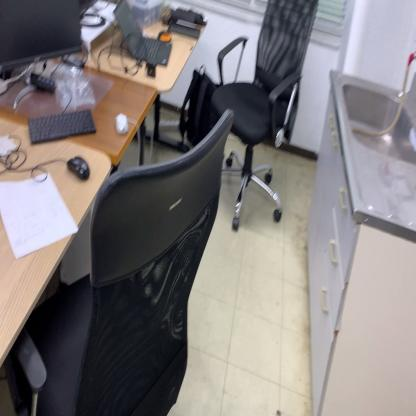chair: (8, 106, 236, 416), (214, 0, 320, 231)
